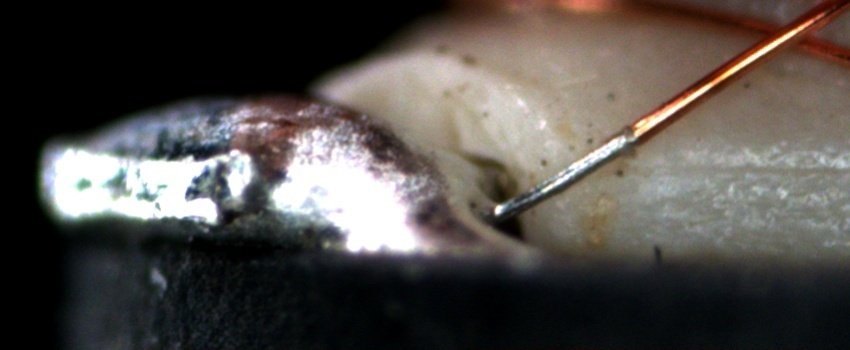CL: (748, 7, 836, 61)
DL: (633, 135, 849, 199)
TS: (491, 128, 637, 220)
